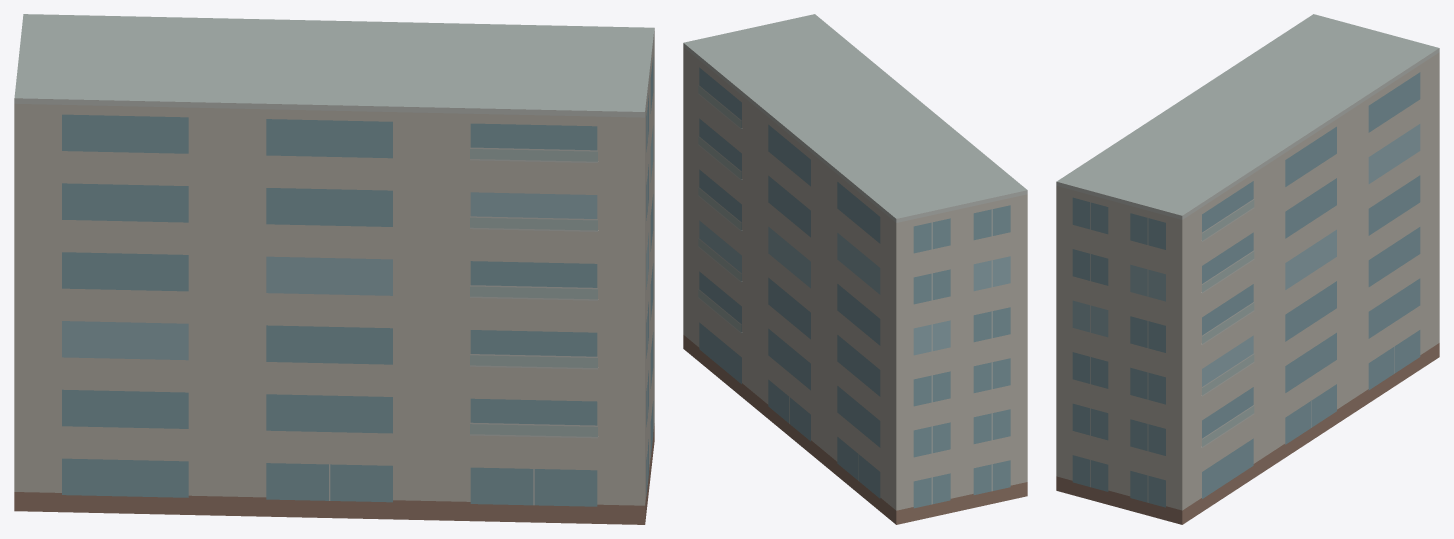
Rendered from survey-upis-32998985.glb.
3 views of the same model, side by side, from view 1: azimuth 30°, elevation 25°; view 2: azimuth 150°, elevation 25°; view 3: azimuth 270°, elevation 25° (orthographic). The views are drawn at different scales.
Visible parts, largest first — view 1: survey-upis-32998985.tmp; view 2: survey-upis-32998985.tmp; view 3: survey-upis-32998985.tmp.
Boxes of the visible parts, x1,y1,x2,y2 form: survey-upis-32998985.tmp: (14, 14, 654, 524); survey-upis-32998985.tmp: (683, 14, 1027, 524); survey-upis-32998985.tmp: (1056, 14, 1439, 524).
Bounding box in the file's own units: 25.64 × 18.3 × 20.57.
